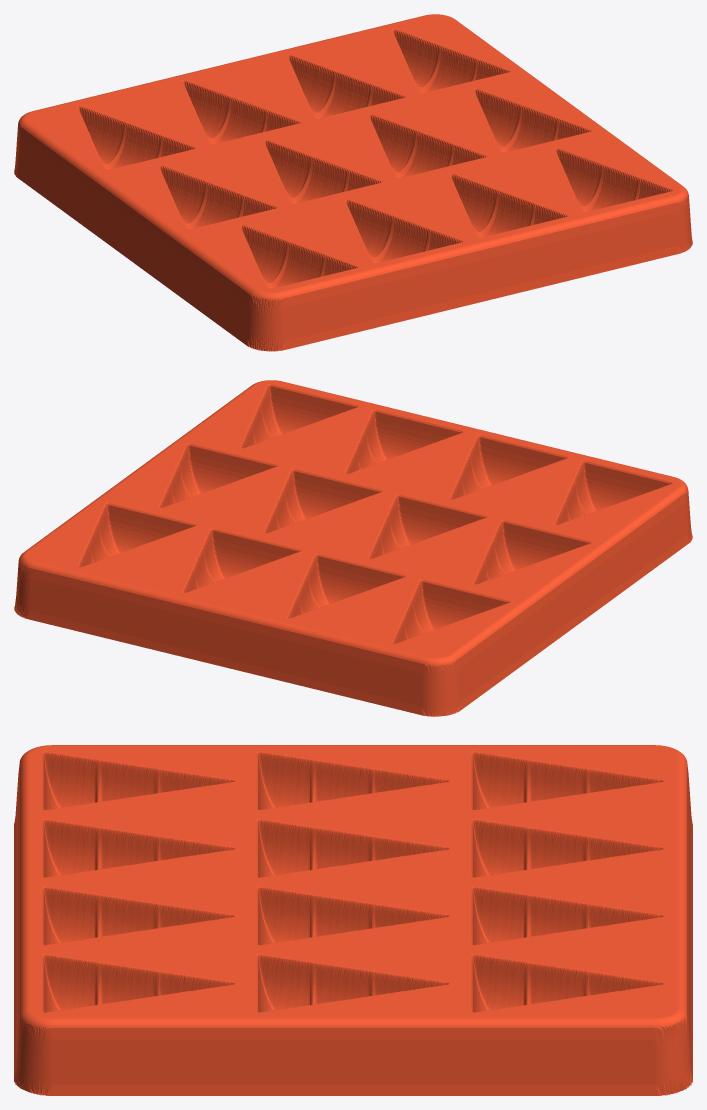
File: mold.glb
3 renders of one model, top to bottom at view 1: azimuth 30°, elevation 25°; view 2: azimuth 150°, elevation 25°; view 3: azimuth 270°, elevation 25°, orthographic. The views are drawn at different scales.
Visible parts, largest first — view 1: geometry_0; view 2: geometry_0; view 3: geometry_0.
Part boxes in pixels (x1=…): geometry_0: x1=14, y1=14, x2=692, y2=351; geometry_0: x1=14, y1=380, x2=692, y2=716; geometry_0: x1=14, y1=745, x2=692, y2=1095.
Bounding box in the file's own units: 0.1587 × 0.0185 × 0.1598.
